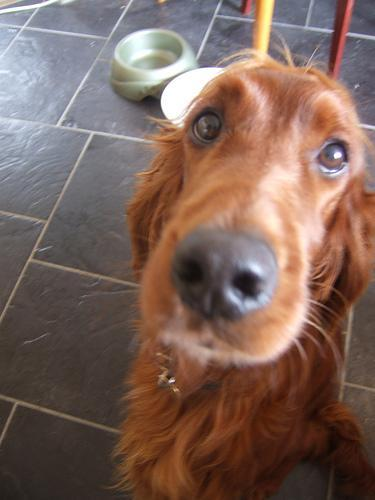Irish_setter: (102, 30, 371, 496)
